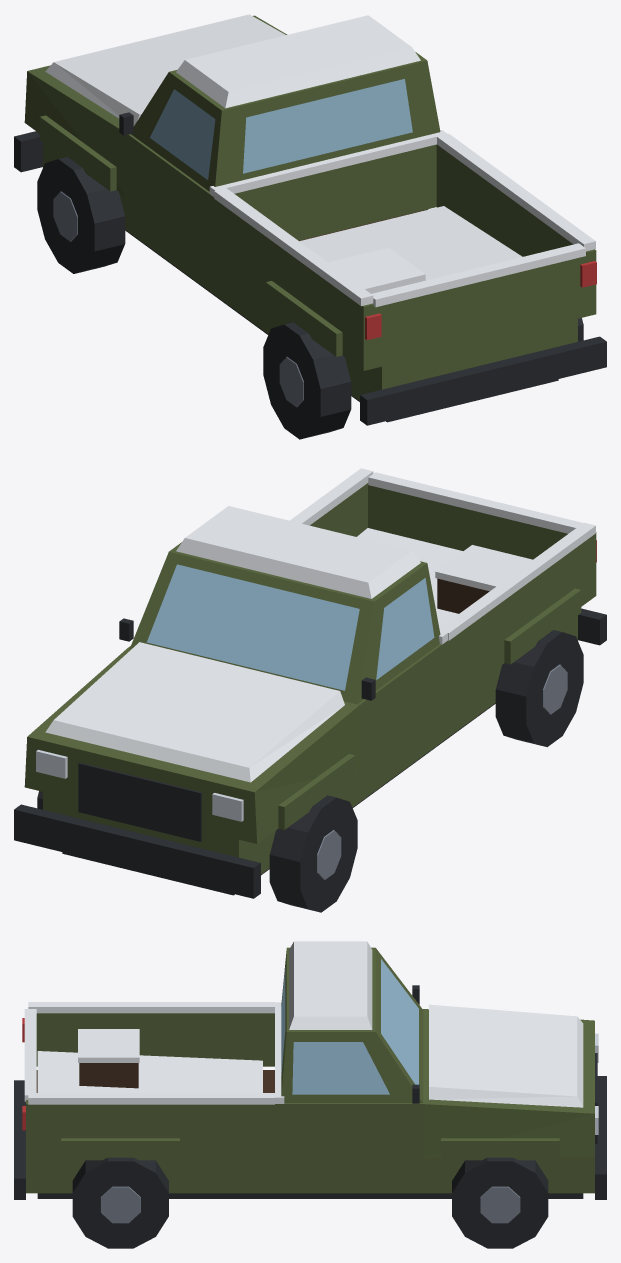
The model's file is pickup_truck.glb.
The picture shows the model from 3 angles, top to bottom: view 1: azimuth 30°, elevation 25°; view 2: azimuth 150°, elevation 25°; view 3: azimuth 270°, elevation 25°; orthographic projection. The views are drawn at different scales.
Parts seen in each view (by area): view 1: Body, Snow, Wheels; view 2: Body, Snow, Wheels; view 3: Body, Snow, Wheels.
Boxes of the visible parts, bbox=[...] form: Body: bbox=[14, 15, 606, 425]; Snow: bbox=[45, 14, 595, 307]; Wheels: bbox=[37, 157, 583, 439]; Body: bbox=[14, 483, 606, 898]; Snow: bbox=[45, 468, 595, 782]; Wheels: bbox=[37, 630, 583, 912]; Body: bbox=[14, 947, 606, 1199]; Snow: bbox=[24, 941, 583, 1107]; Wheels: bbox=[72, 1157, 548, 1248].
Size of what is drawn, in the model's own units: 2.16 by 2.01 by 5.
